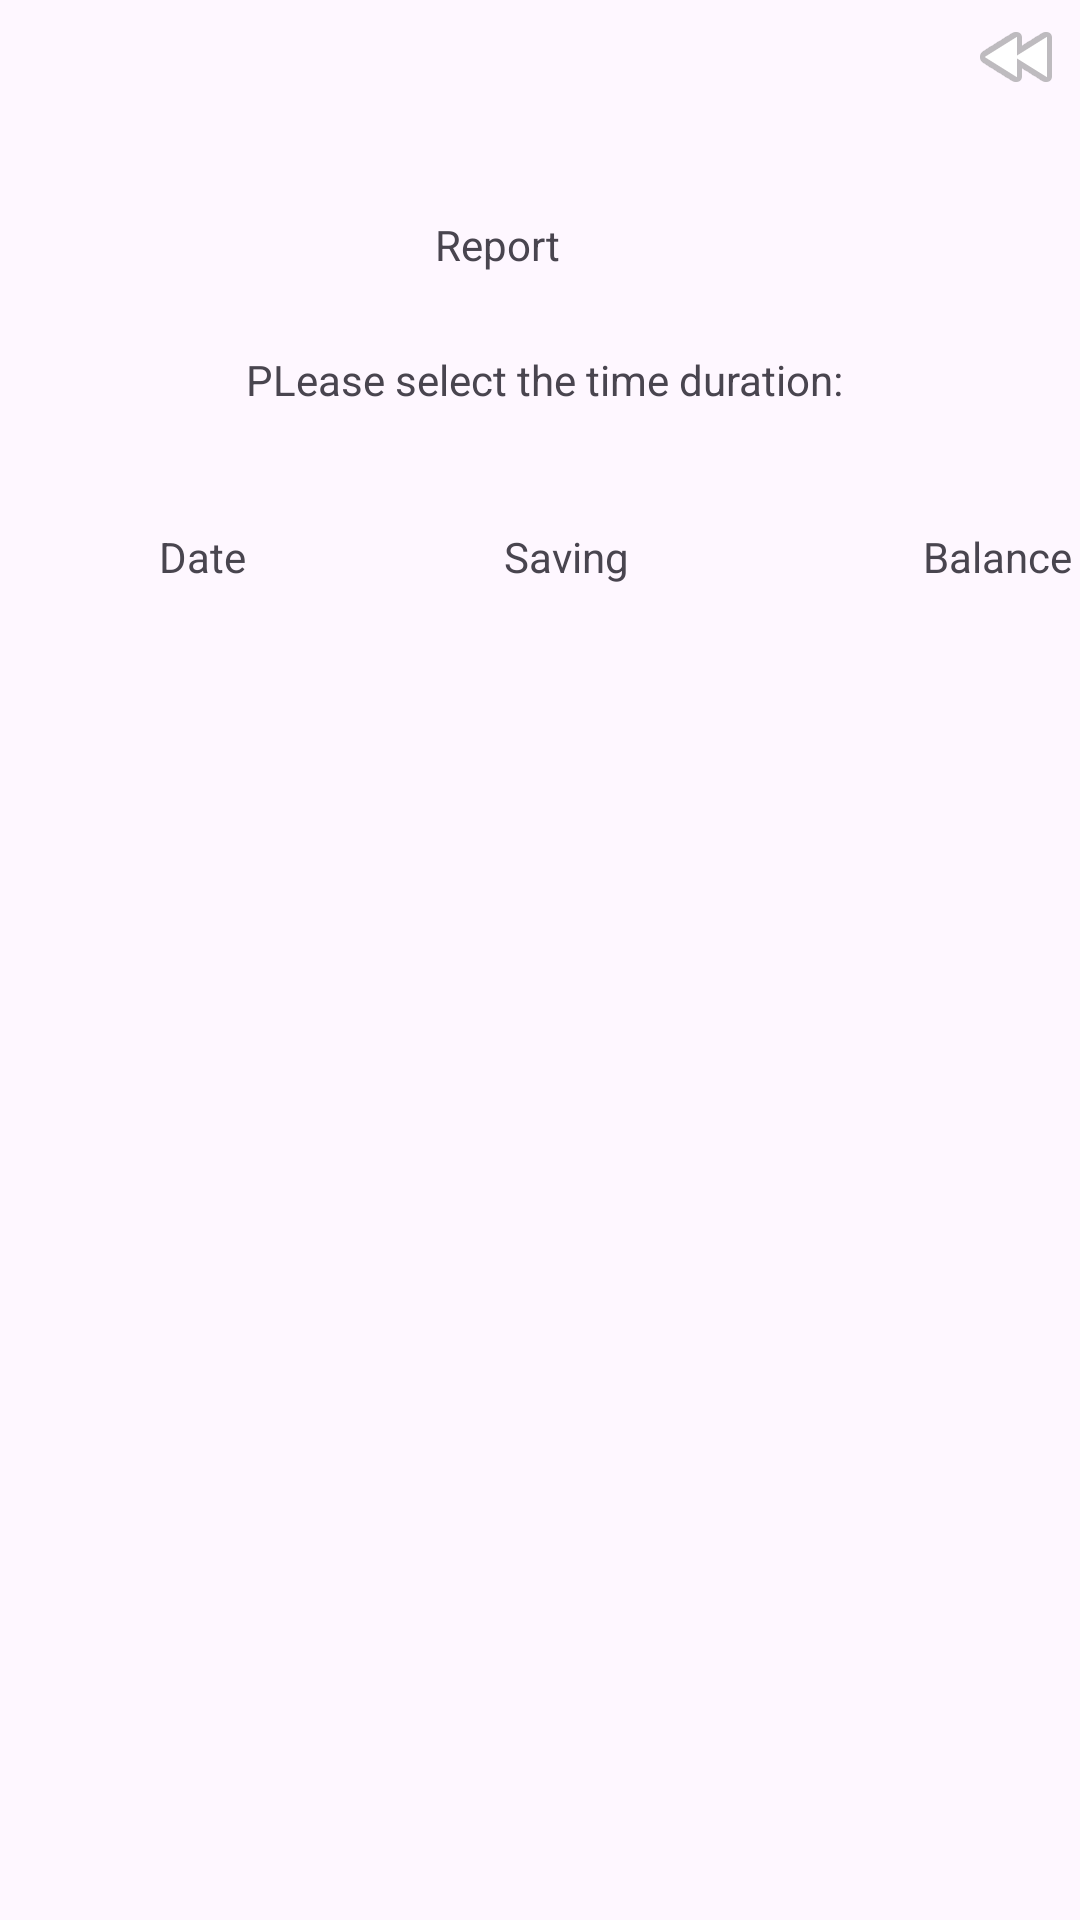

Screen size 1080×1920. Icon name, then its box in pixels as (x1, y1, x2, y2):
rew: (980, 32, 1052, 82)
